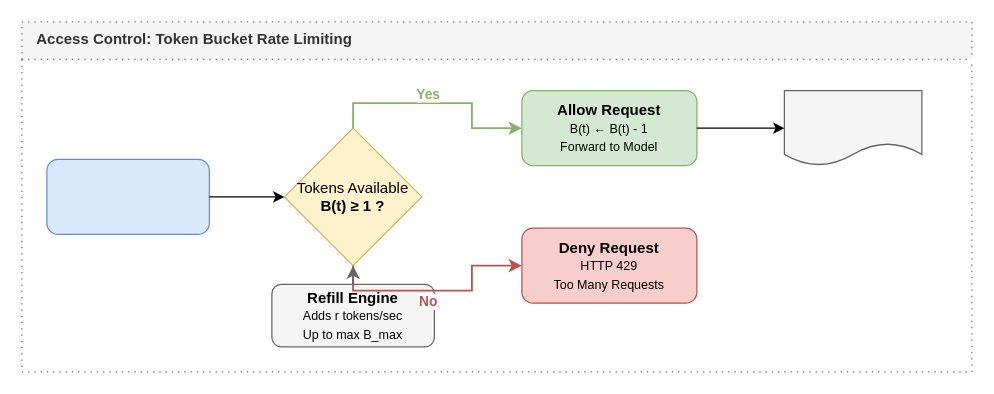
Some shapes in this 994 by 394 pixel diagram are drawn without their labels. The shapes that lost their labels are listed below. From the top down, each one's box as (x1, y1, x2, y2) in pixels, then its label:
(783, 89, 922, 166): Model Response
(46, 158, 209, 234): User Query Request
